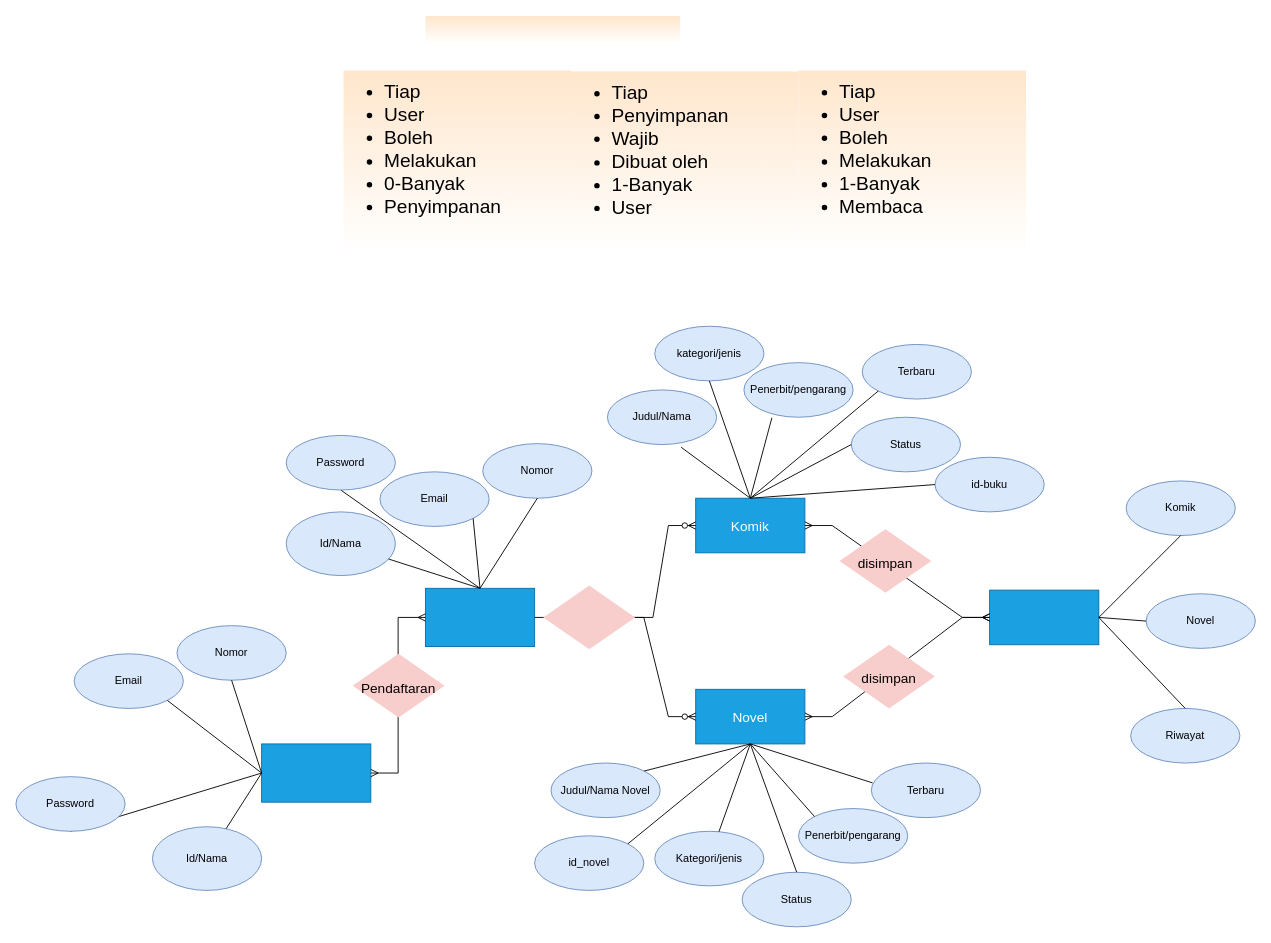
Image size: 1271x943. Some labels were removed from this diagram. The centre of each missing label's shape, as x and y in pixels:
Adminstator: the point at 480,617
Diperbarui data: the point at 589,617
Library: the point at 1044,617
Person: the point at 316,772
The Component of ERDish: the point at 552,29
